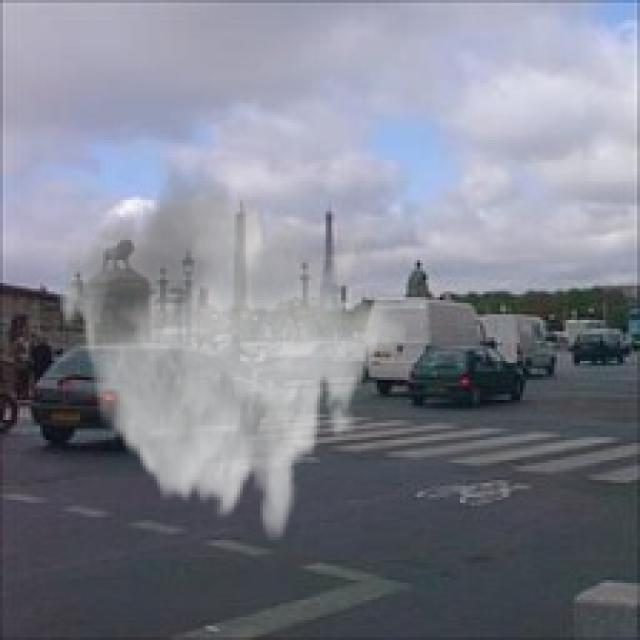smoke: (54, 157, 409, 546)
